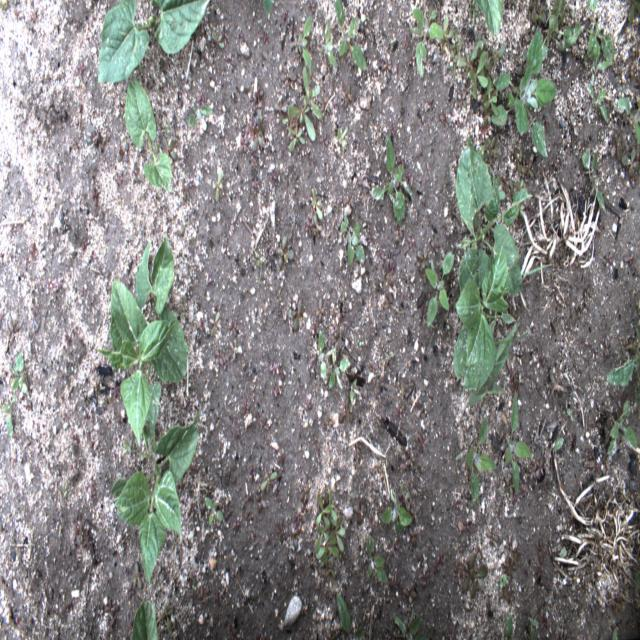crop: (98, 234, 189, 441), (109, 404, 201, 587), (458, 140, 534, 296), (451, 250, 515, 408), (98, 0, 212, 84), (124, 73, 174, 194), (130, 597, 160, 639), (477, 0, 505, 37)
weed: (489, 28, 557, 159), (372, 132, 414, 226), (457, 418, 496, 508), (606, 318, 640, 408), (502, 392, 530, 495), (409, 4, 444, 78), (334, 0, 368, 73), (424, 252, 454, 330), (585, 0, 615, 74), (606, 398, 638, 456), (379, 485, 413, 537), (582, 151, 607, 212), (340, 215, 367, 267), (461, 553, 489, 600), (281, 102, 316, 137), (364, 534, 387, 585), (302, 68, 323, 122), (616, 96, 640, 142), (391, 610, 427, 640), (296, 13, 313, 71), (584, 80, 608, 120), (546, 2, 568, 45), (10, 350, 28, 402), (328, 348, 349, 390), (320, 19, 337, 70), (469, 53, 488, 98), (458, 39, 482, 74), (316, 534, 340, 563), (189, 103, 214, 130), (253, 244, 267, 292), (330, 510, 346, 552), (316, 328, 328, 383), (337, 592, 351, 639), (204, 496, 225, 526), (277, 234, 294, 270), (566, 21, 585, 49), (484, 78, 498, 115), (0, 399, 13, 437), (310, 184, 324, 218), (622, 149, 639, 177), (288, 127, 306, 153), (315, 495, 331, 524), (448, 28, 465, 54), (528, 2, 548, 24), (608, 132, 622, 162), (212, 169, 224, 203), (163, 138, 180, 162), (292, 298, 304, 332), (484, 135, 500, 160), (229, 338, 244, 364), (352, 500, 367, 526), (252, 125, 266, 152), (260, 470, 277, 492), (298, 474, 310, 504), (401, 481, 412, 513), (280, 68, 298, 87), (529, 608, 540, 639), (492, 46, 507, 68), (338, 400, 352, 423), (442, 15, 453, 44), (400, 452, 414, 474), (328, 488, 337, 522), (336, 126, 349, 149), (496, 170, 505, 203), (348, 376, 358, 405), (512, 145, 522, 173), (628, 0, 640, 23), (466, 0, 478, 23), (210, 31, 224, 50), (58, 478, 70, 500), (314, 528, 326, 550), (210, 311, 220, 337), (511, 540, 521, 566), (401, 586, 417, 602), (335, 313, 346, 335), (288, 526, 298, 550), (354, 626, 371, 640), (344, 84, 354, 107), (276, 520, 286, 543), (552, 435, 564, 454), (568, 115, 578, 137), (256, 110, 268, 128), (214, 348, 226, 366), (449, 52, 458, 76), (262, 0, 277, 14), (535, 459, 545, 480), (314, 296, 322, 322), (560, 544, 572, 561), (524, 162, 536, 179), (506, 614, 514, 639), (240, 396, 250, 416), (227, 318, 238, 336), (163, 603, 170, 631), (238, 137, 251, 152), (507, 180, 523, 192), (254, 87, 264, 106), (275, 99, 286, 115), (498, 572, 507, 591), (514, 373, 524, 390), (326, 563, 336, 580), (633, 569, 640, 592), (258, 417, 270, 430), (539, 538, 545, 564), (486, 529, 500, 540), (268, 362, 278, 376), (504, 477, 512, 493), (320, 134, 330, 146), (122, 442, 132, 453), (279, 364, 285, 381), (611, 627, 618, 639), (272, 384, 279, 396), (566, 405, 572, 418), (191, 582, 198, 593), (359, 339, 365, 348)
